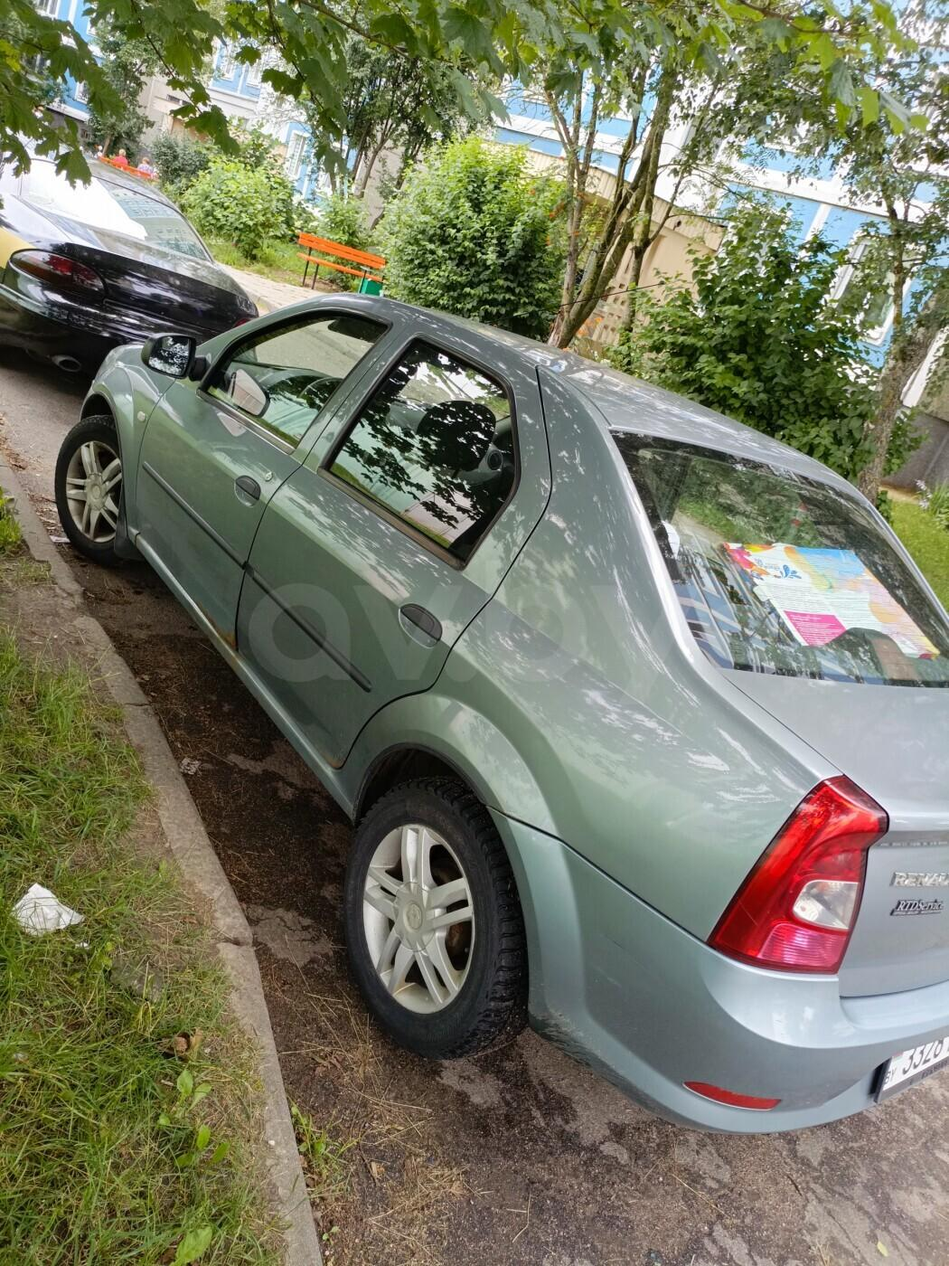Logan_2008-2015: (54, 284, 949, 1154)
